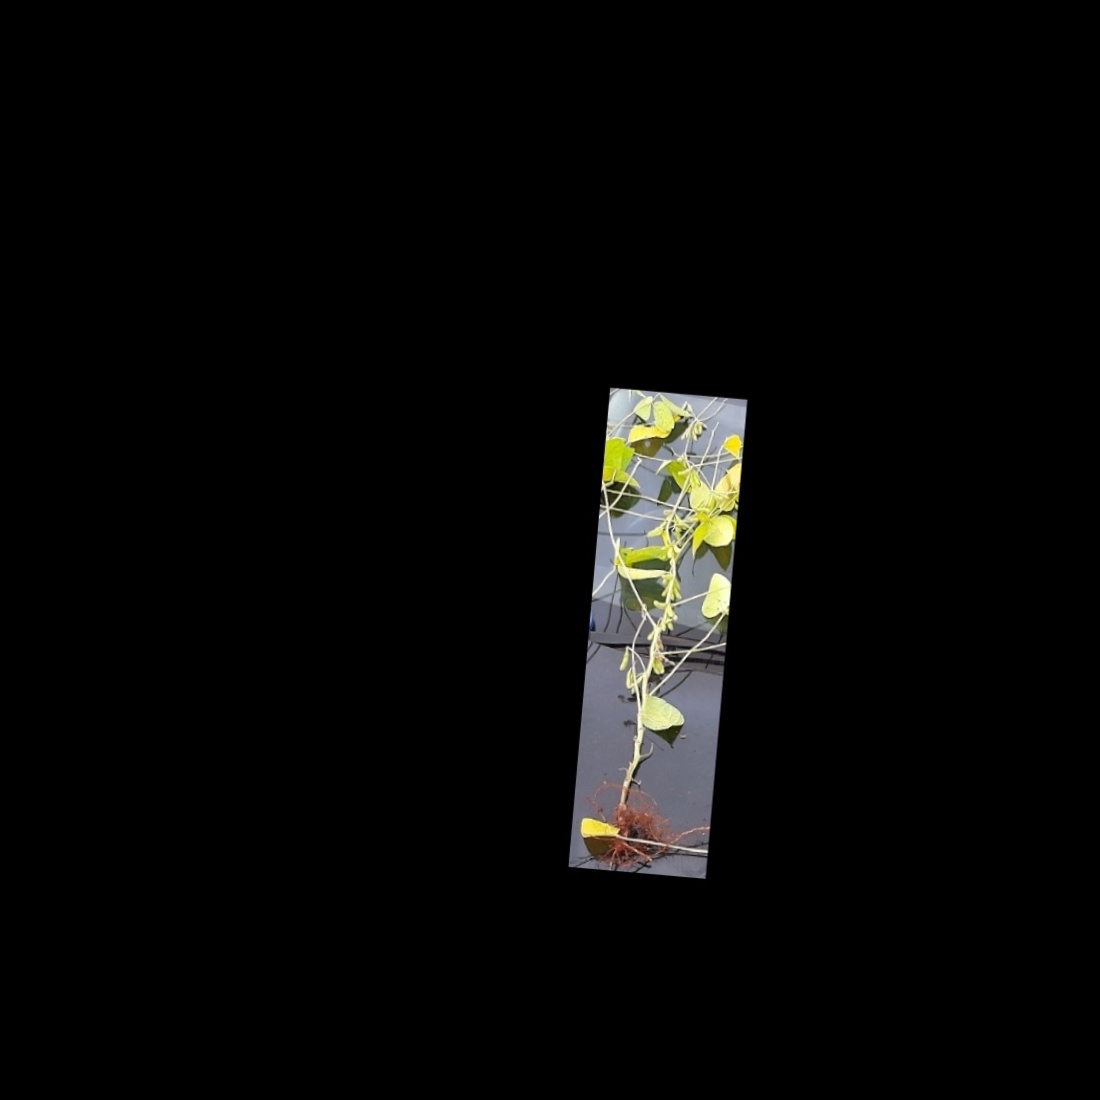pod: (617, 645, 631, 674), (650, 598, 670, 612), (671, 581, 683, 602), (658, 572, 678, 583)
soy: (576, 397, 743, 863)
